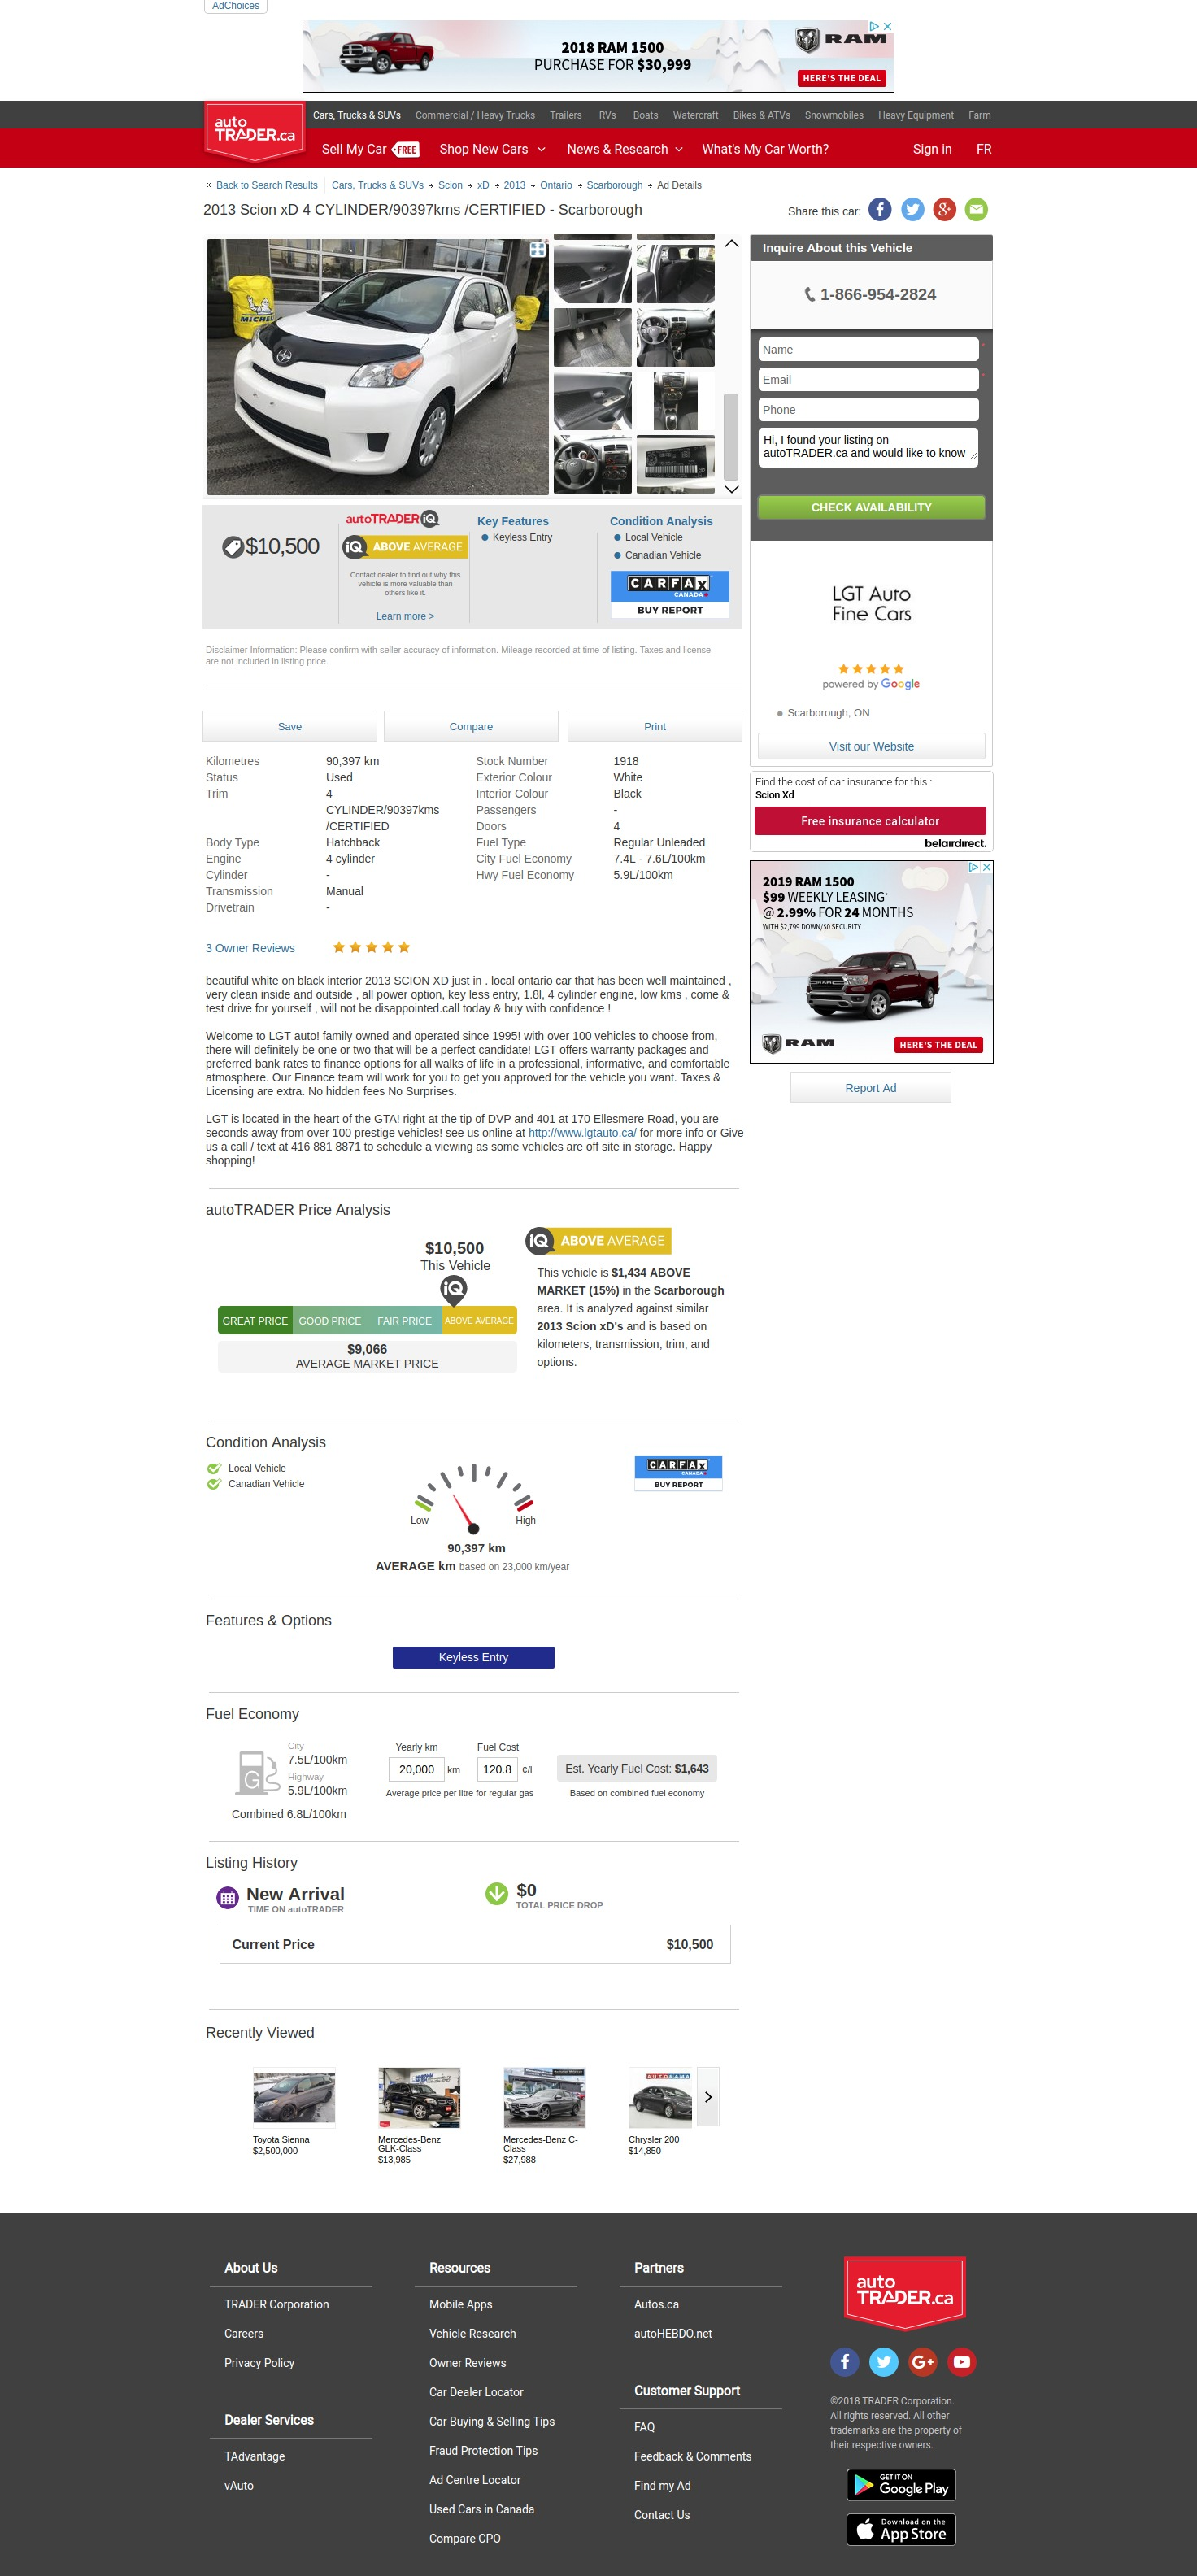car: (726, 486, 741, 494)
